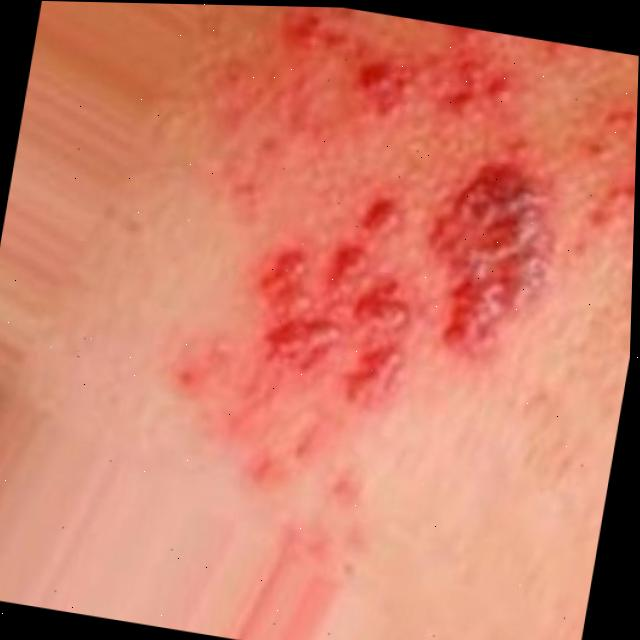Shingles: (109, 3, 640, 607)
